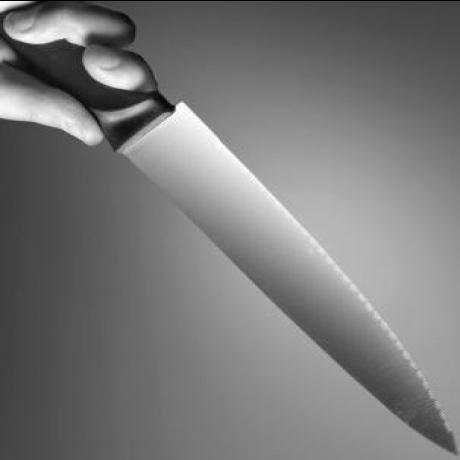weapon: (0, 13, 460, 456)
